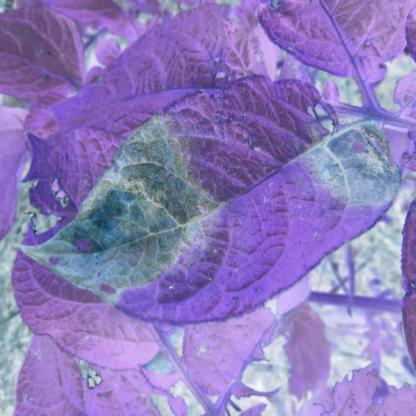potato leaf early blight: (21, 74, 403, 329)
